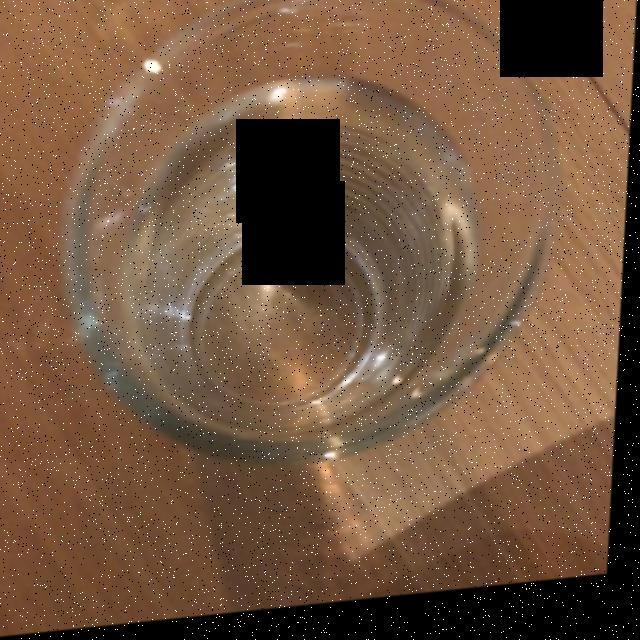water: (146, 56, 490, 469)
